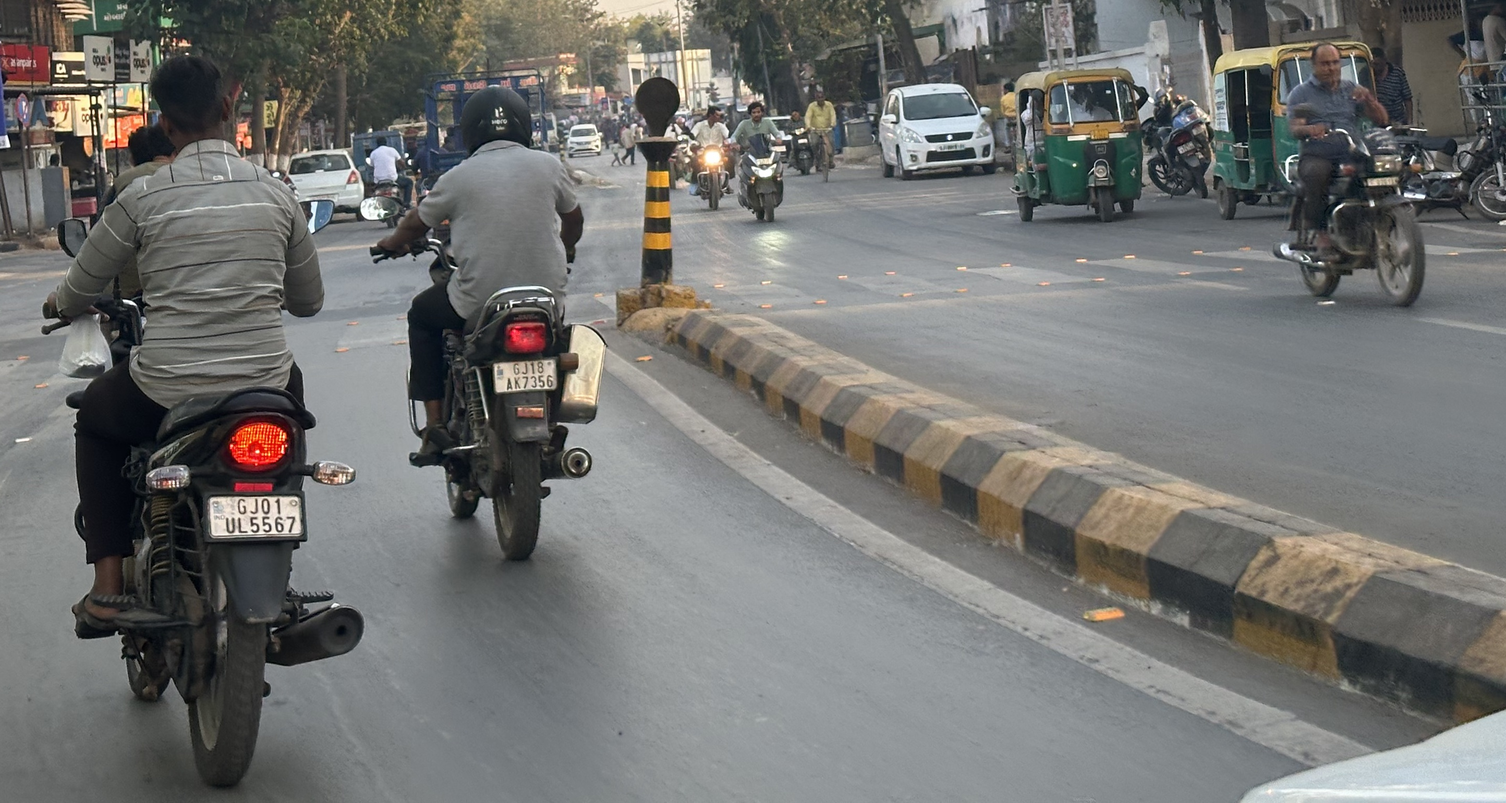BikeWithRider: (30, 44, 373, 795), (361, 78, 613, 569), (1264, 32, 1439, 315), (729, 92, 794, 226), (684, 98, 743, 214), (358, 129, 407, 230)
Helmet: (449, 80, 541, 159)
NoHelmet: (142, 46, 236, 154), (1303, 37, 1351, 90)
